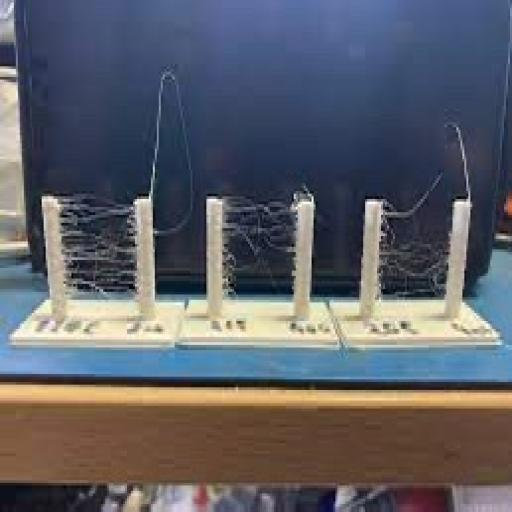stringing: (378, 166, 445, 297), (59, 198, 133, 297), (228, 200, 296, 297)
